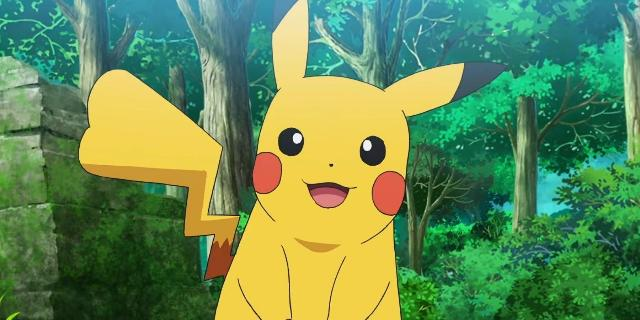pickachu: (79, 4, 508, 320)
